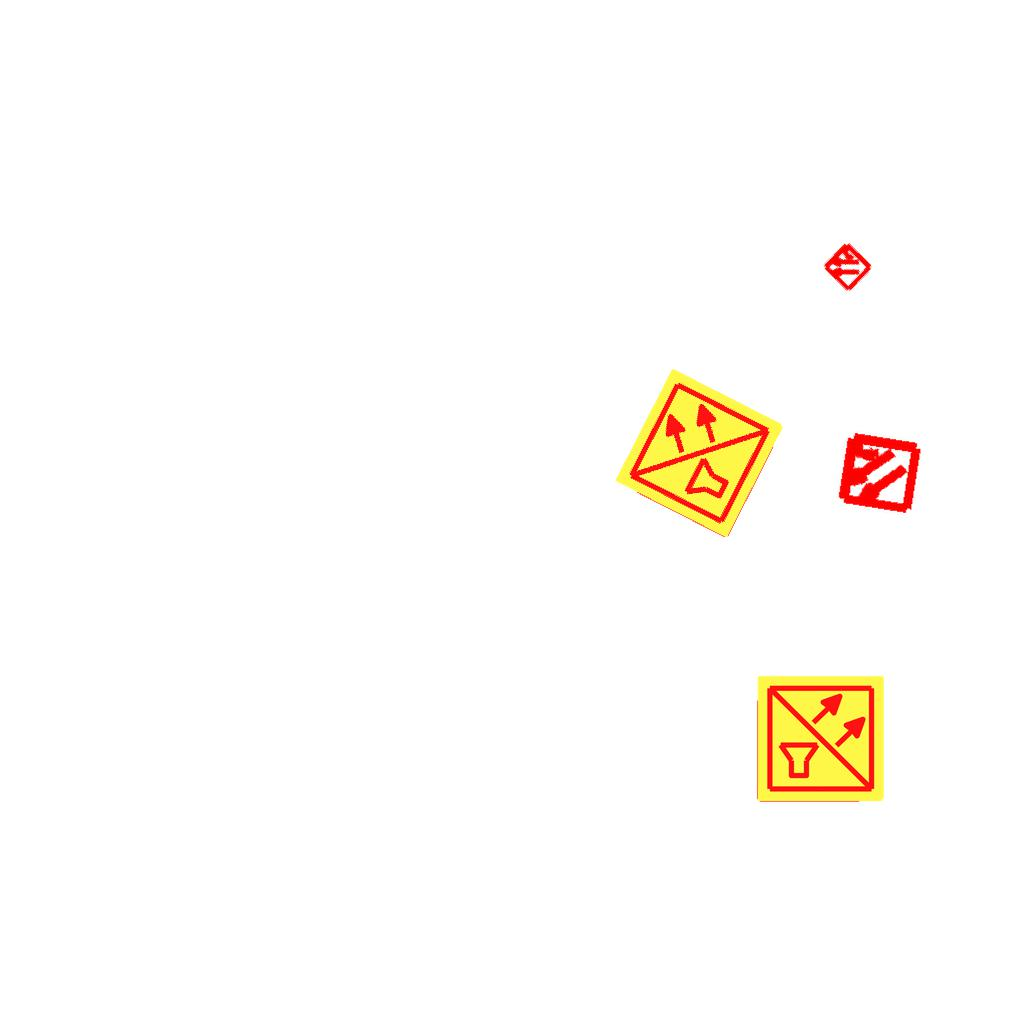OKW_Multisensormelder_(Kombination_optischer_Rauch-Kahlenmonoxid_Waerme-Melder): (611, 364, 789, 542), (755, 673, 887, 805)
OT_Multisensormelder_(Kombination_RMO_WMD): (812, 407, 943, 538), (807, 226, 887, 306)
